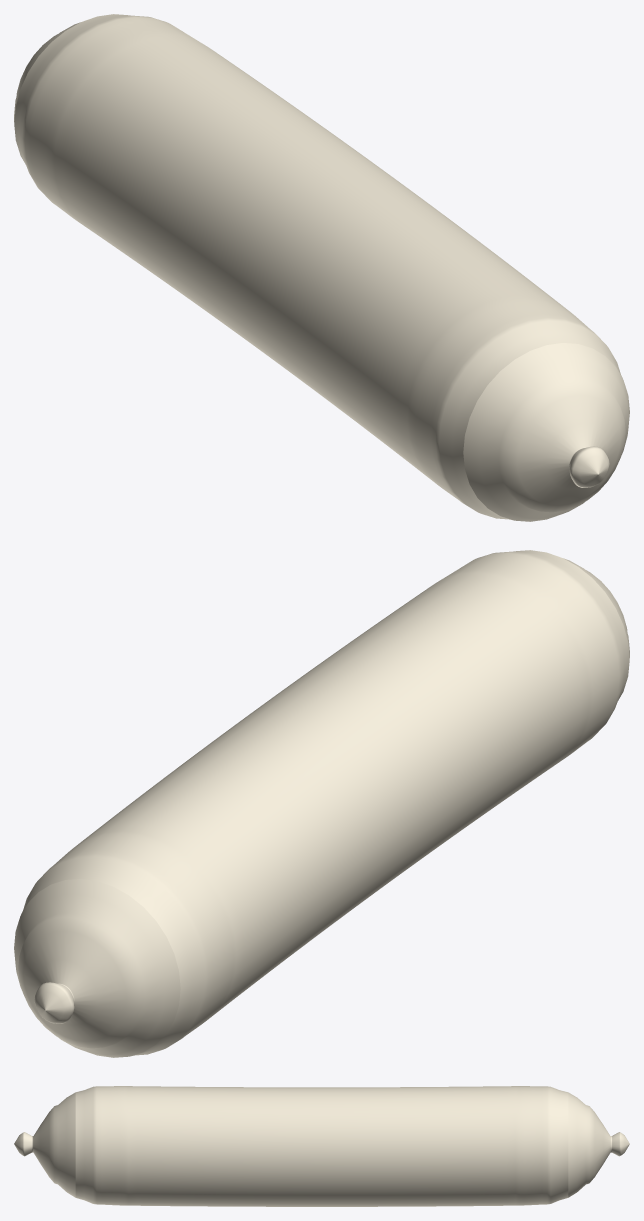
File: sausage.glb
3 renders of one model, top to bottom at view 1: azimuth 30°, elevation 25°; view 2: azimuth 150°, elevation 25°; view 3: azimuth 270°, elevation 25°, orthographic. The views are drawn at different scales.
Parts seen in each view (by area): view 1: Plump Weisswurst / +Z mission direction; view 2: Plump Weisswurst / +Z mission direction; view 3: Plump Weisswurst / +Z mission direction.
Boxes of the visible parts, x1=… form: Plump Weisswurst / +Z mission direction: x1=14, y1=14, x2=629, y2=521; Plump Weisswurst / +Z mission direction: x1=14, y1=550, x2=629, y2=1057; Plump Weisswurst / +Z mission direction: x1=14, y1=1086, x2=629, y2=1206.
Bounding box in the file's own units: 0.3495 × 0.34 × 1.75.
